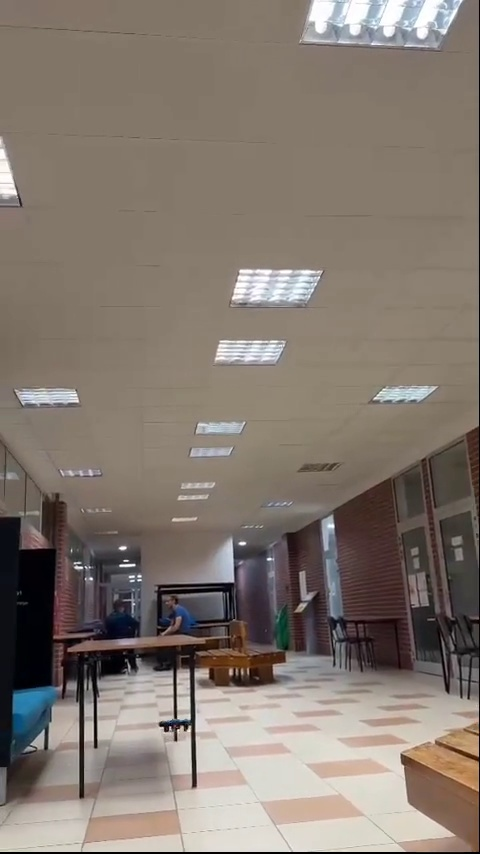drone: (158, 720, 193, 732)
no vest: (159, 593, 193, 636), (103, 596, 138, 635)
